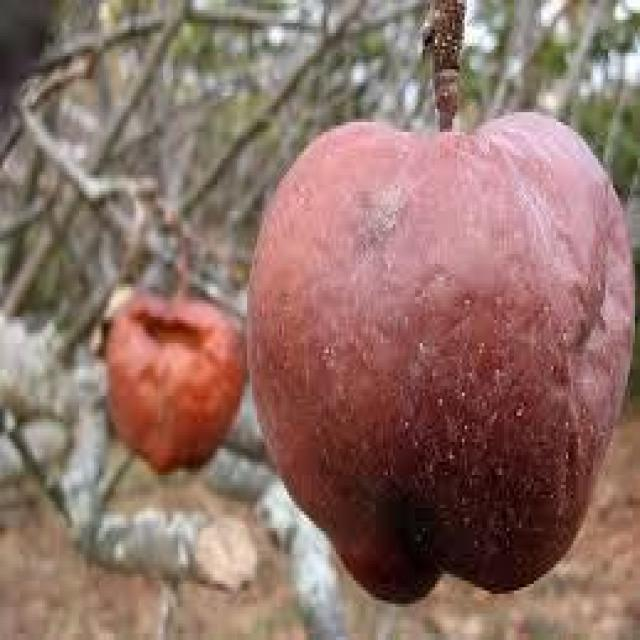maca: (242, 106, 635, 604)
